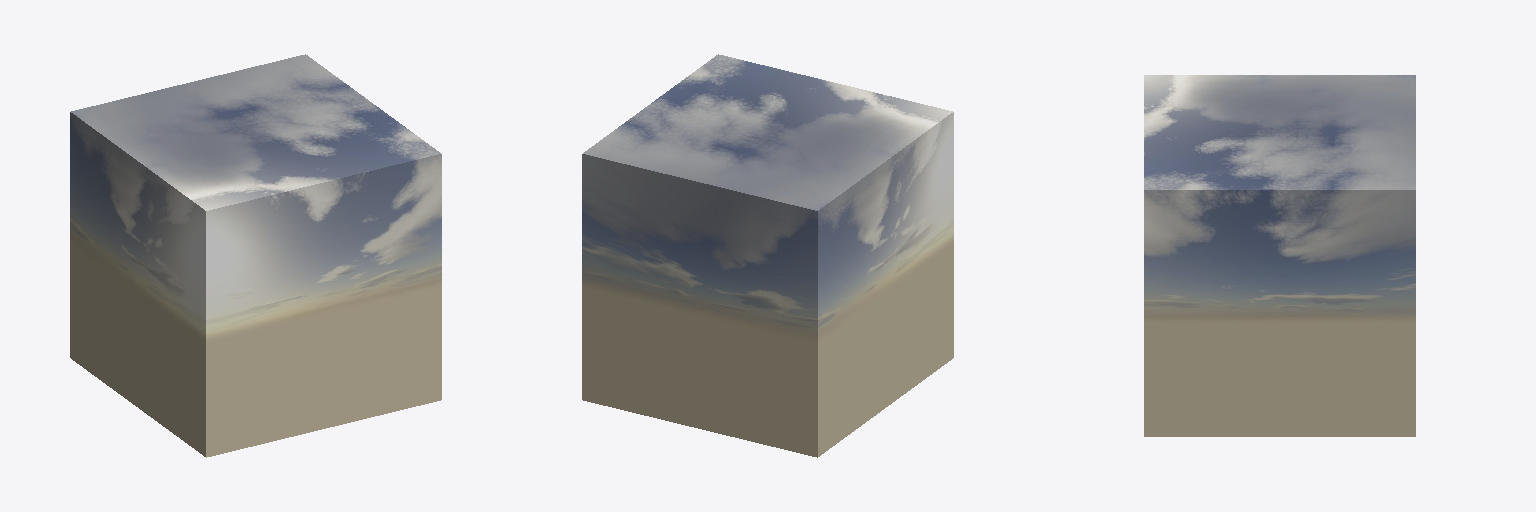
The picture shows the model from 3 angles: view 1: azimuth 30°, elevation 25°; view 2: azimuth 150°, elevation 25°; view 3: azimuth 270°, elevation 25°; orthographic projection.
Size of the model in its own units: 1000 by 1001 by 1000.
6 materials, 6 textured.